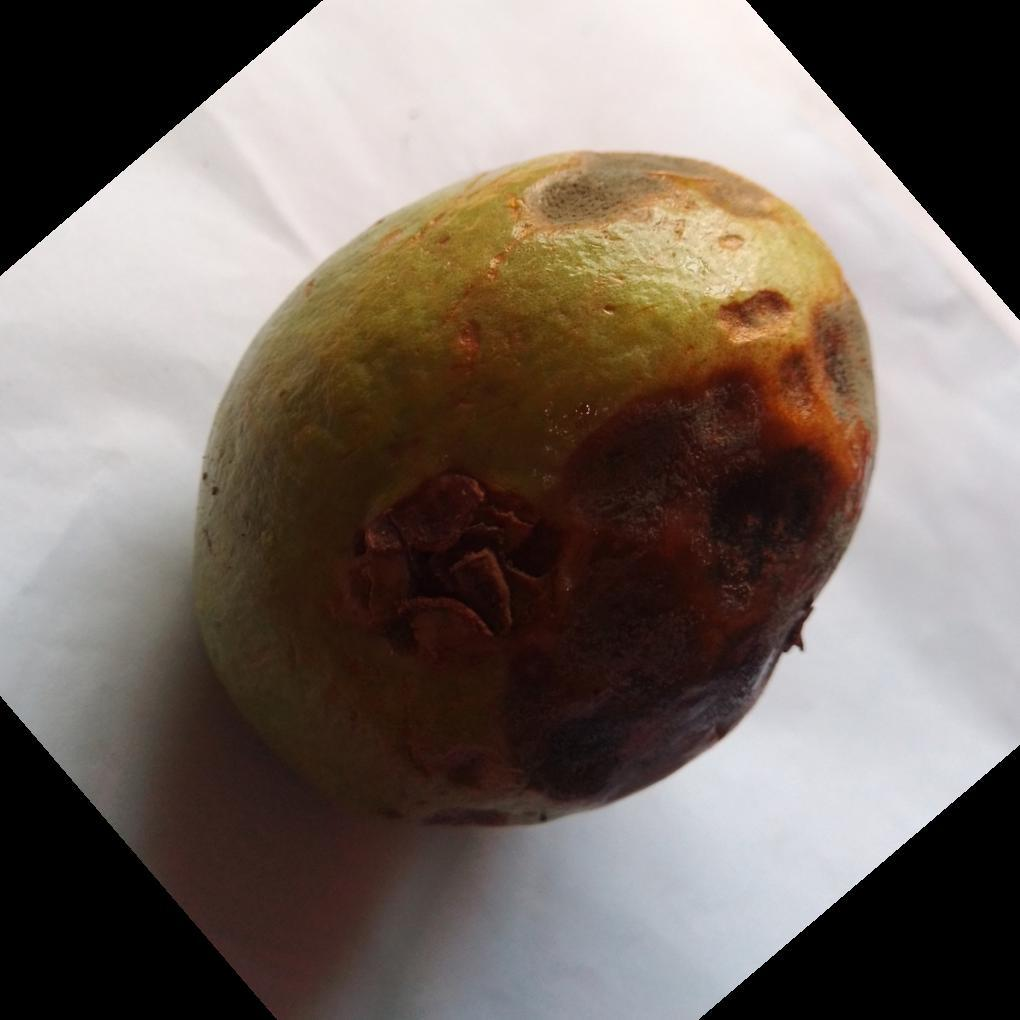FreshOrange: (187, 150, 880, 834)
